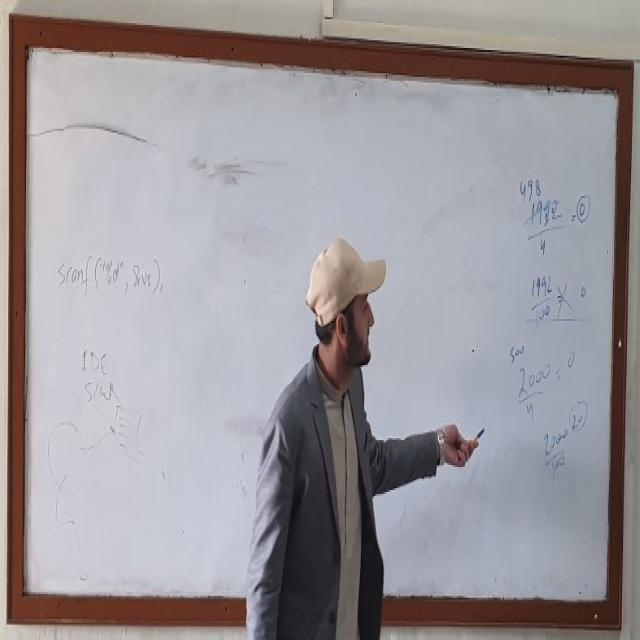Instructor: (256, 221, 401, 640)
White-board: (14, 24, 626, 617)
